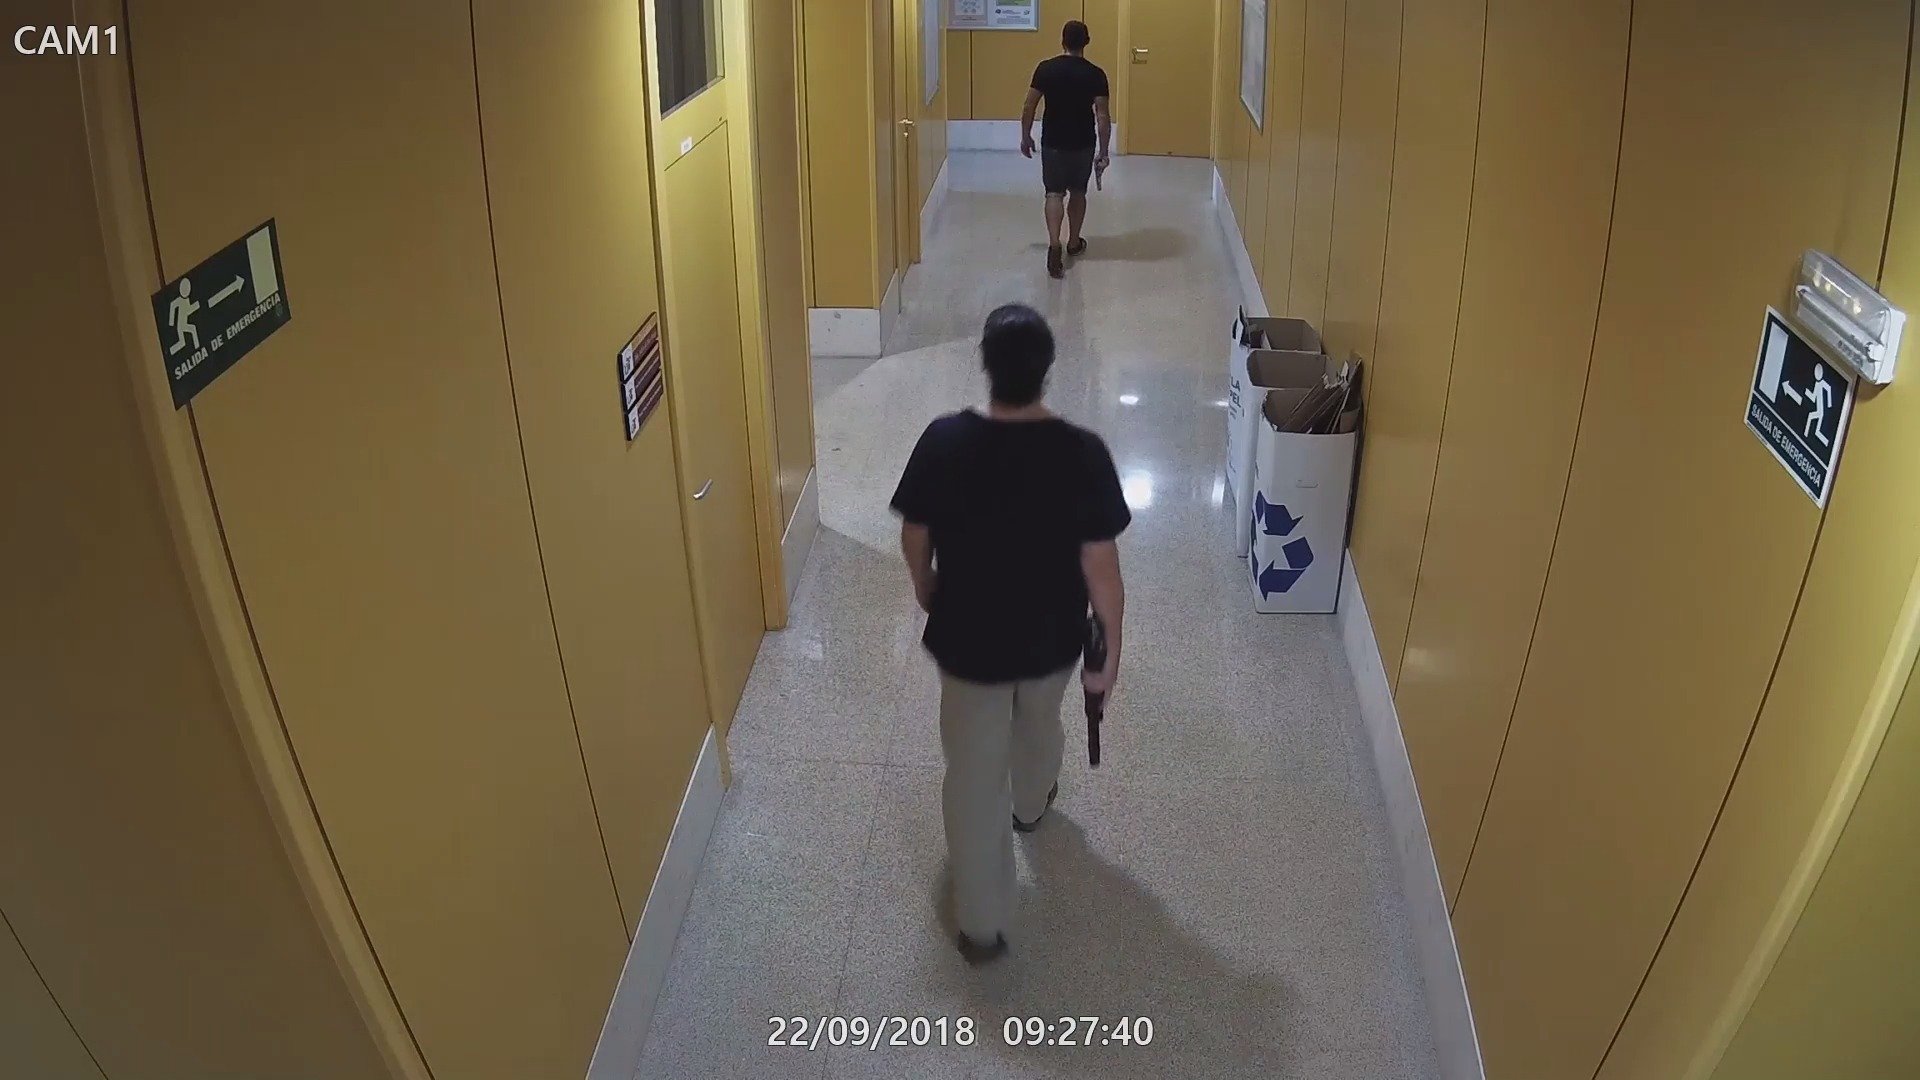pistol: (1088, 150, 1116, 191)
rifle: (1081, 605, 1116, 766)
